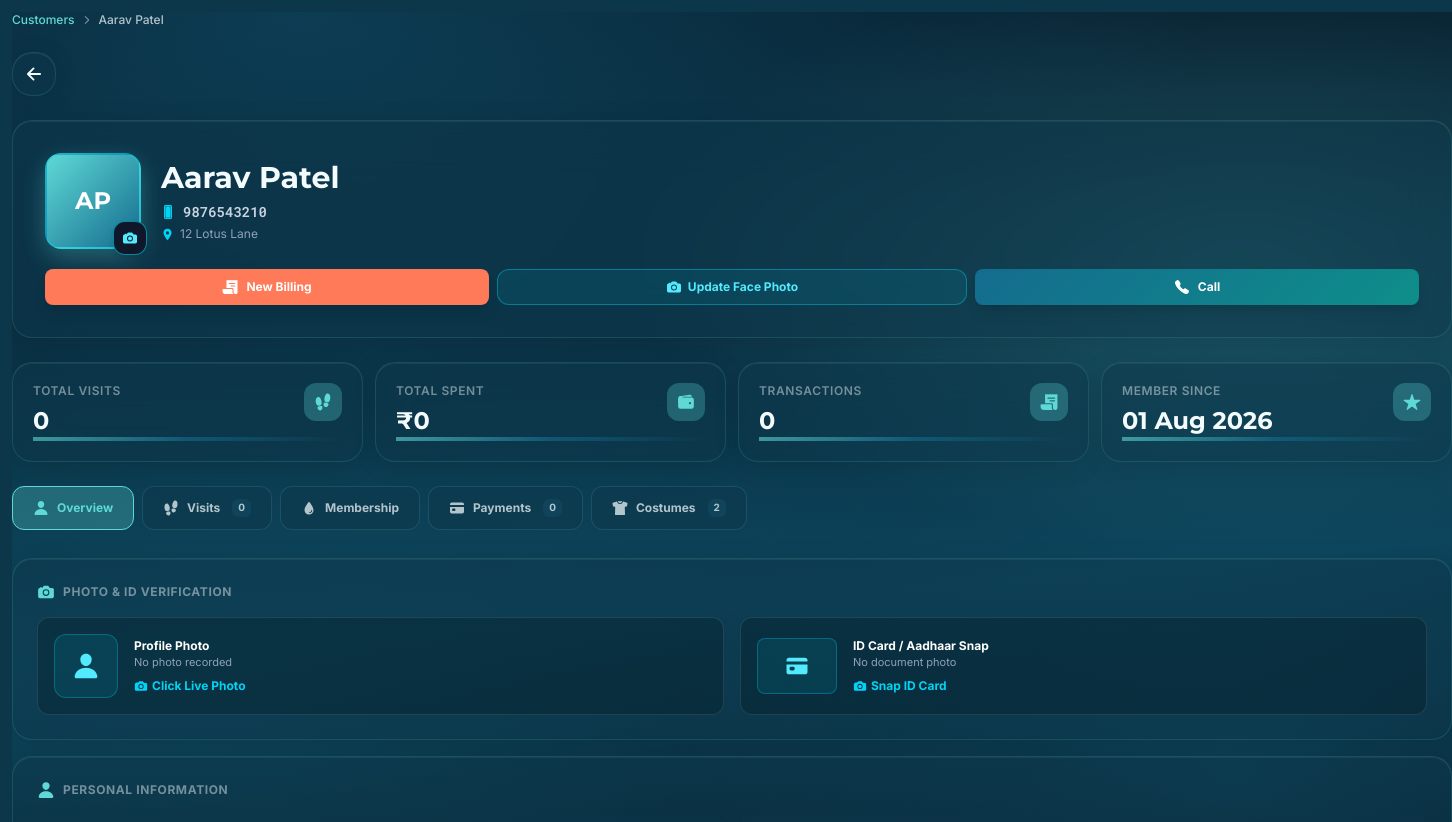
Test case: CustomerProfilePage › renders bought and rented costumes in the Costumes tab
Click the button "Costumes 2".
click(669, 508)  # box [591,486,747,530]
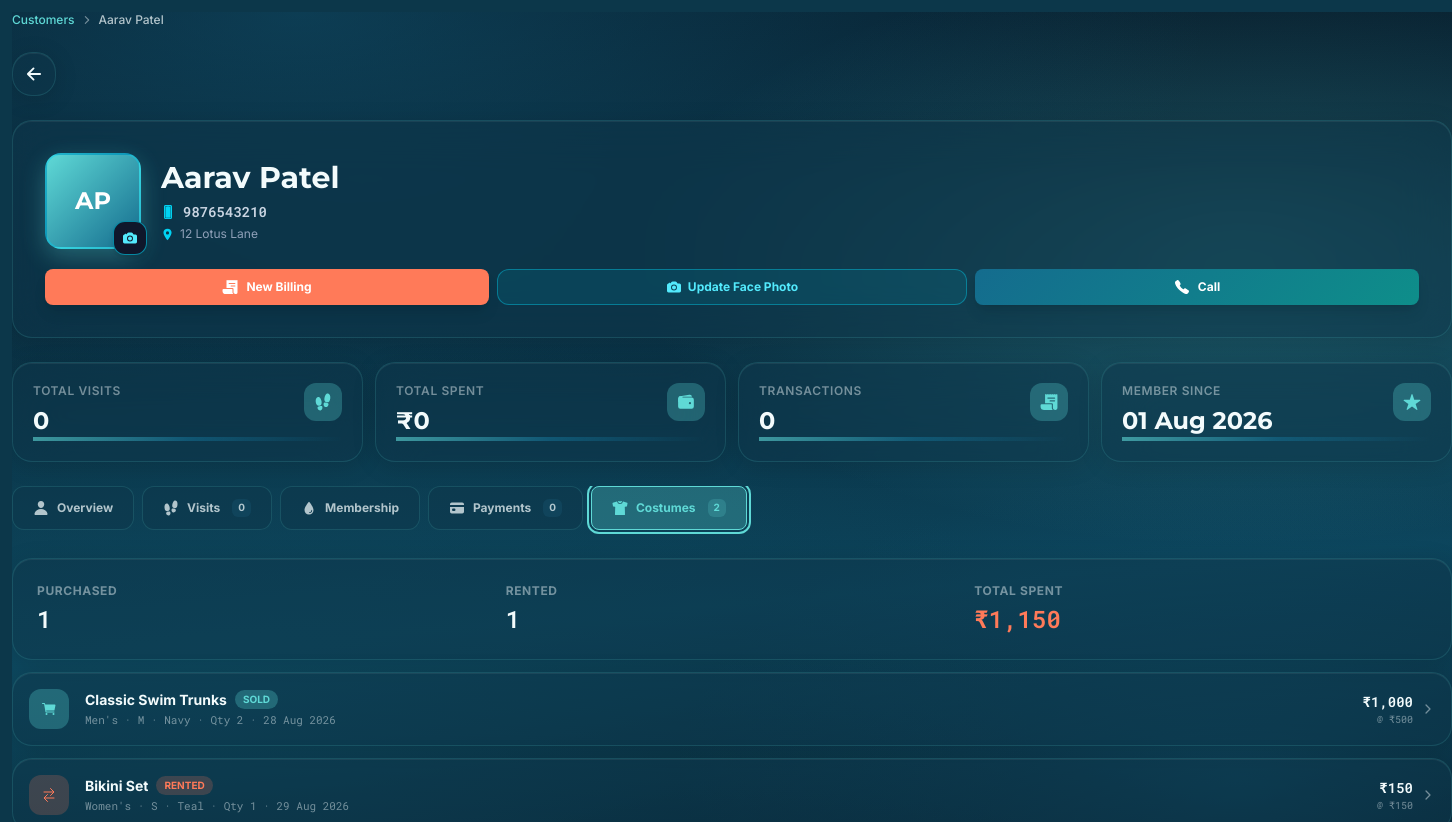
Check: the text "Classic Swim Trunks" is shown, box [85,690,227,710]
Check: the text "Bikini Set" is shown, box [85,776,148,796]
Check: the text "Sold" is shown, box [235,690,278,709]
